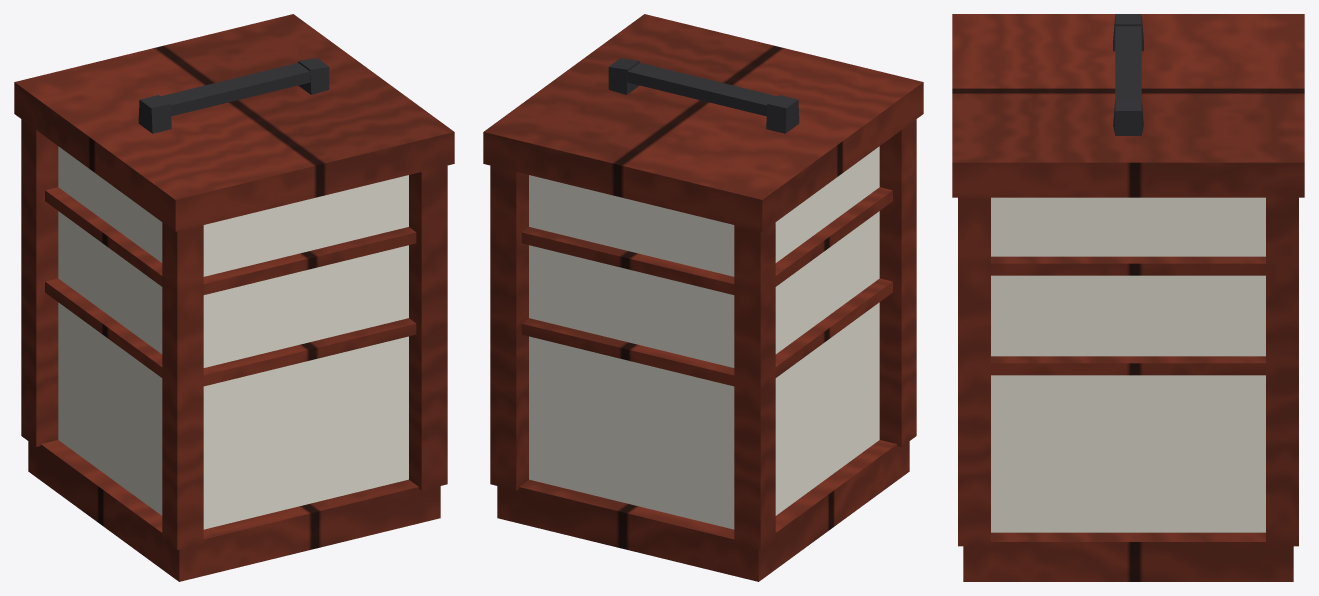
The model's file is Item_Lantern.fbx.
The picture shows the model from 3 angles, left to right: view 1: azimuth 30°, elevation 25°; view 2: azimuth 150°, elevation 25°; view 3: azimuth 270°, elevation 25°; orthographic projection. The views are drawn at different scales.
Visible parts, largest first — view 1: Item_Lantern; view 2: Item_Lantern; view 3: Item_Lantern.
Boxes of the visible parts, x1=… form: Item_Lantern: x1=14, y1=14, x2=454, y2=581; Item_Lantern: x1=483, y1=14, x2=923, y2=581; Item_Lantern: x1=952, y1=14, x2=1304, y2=581.
Size of the model in its own units: 0.32 by 0.452 by 0.32.
Materials: 3 (1 with a texture image).
